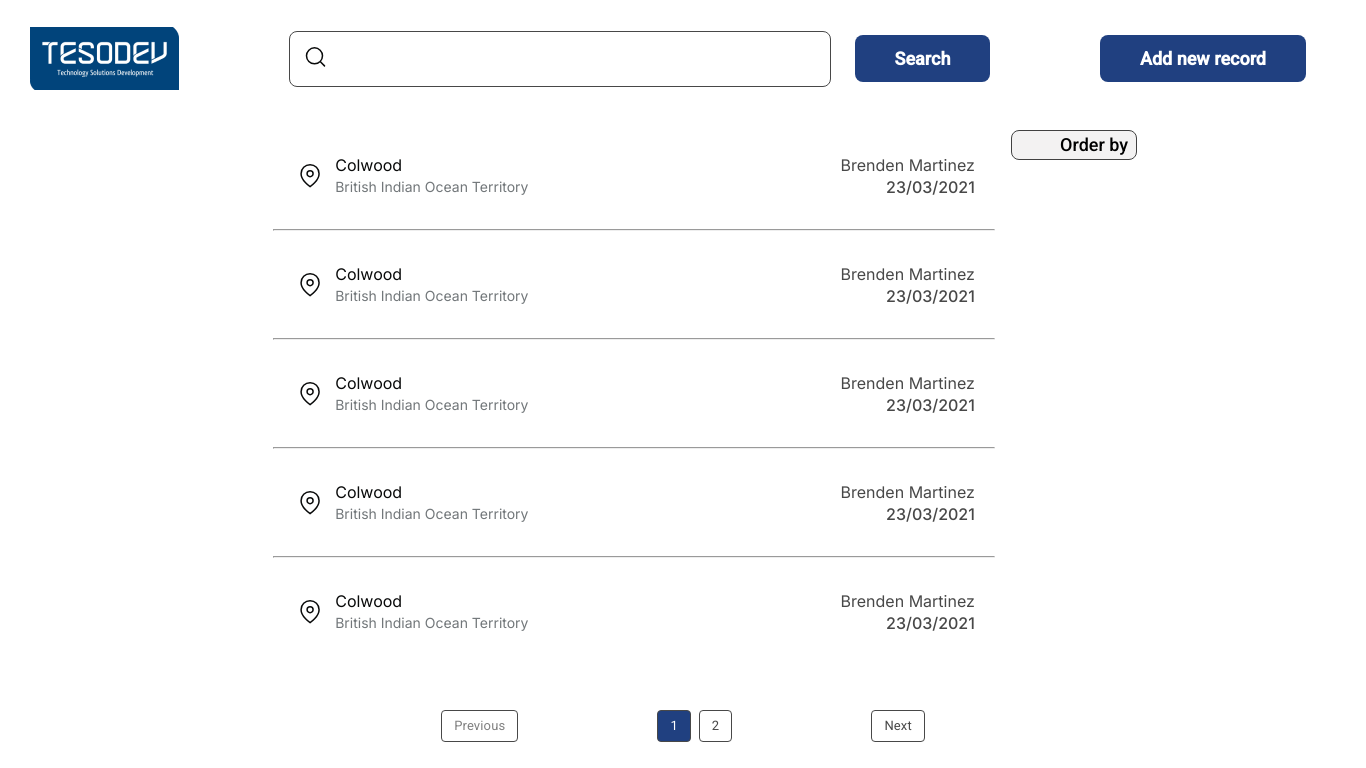
Test case: Show More › does dropdown open
The width and height of the screenshot is (1366, 768).
What coordinates should you click on to do the following:
click the element with test id "isViewDropdown"
I would click on:
 (1074, 145)
Its box is [1011, 130, 1137, 160].
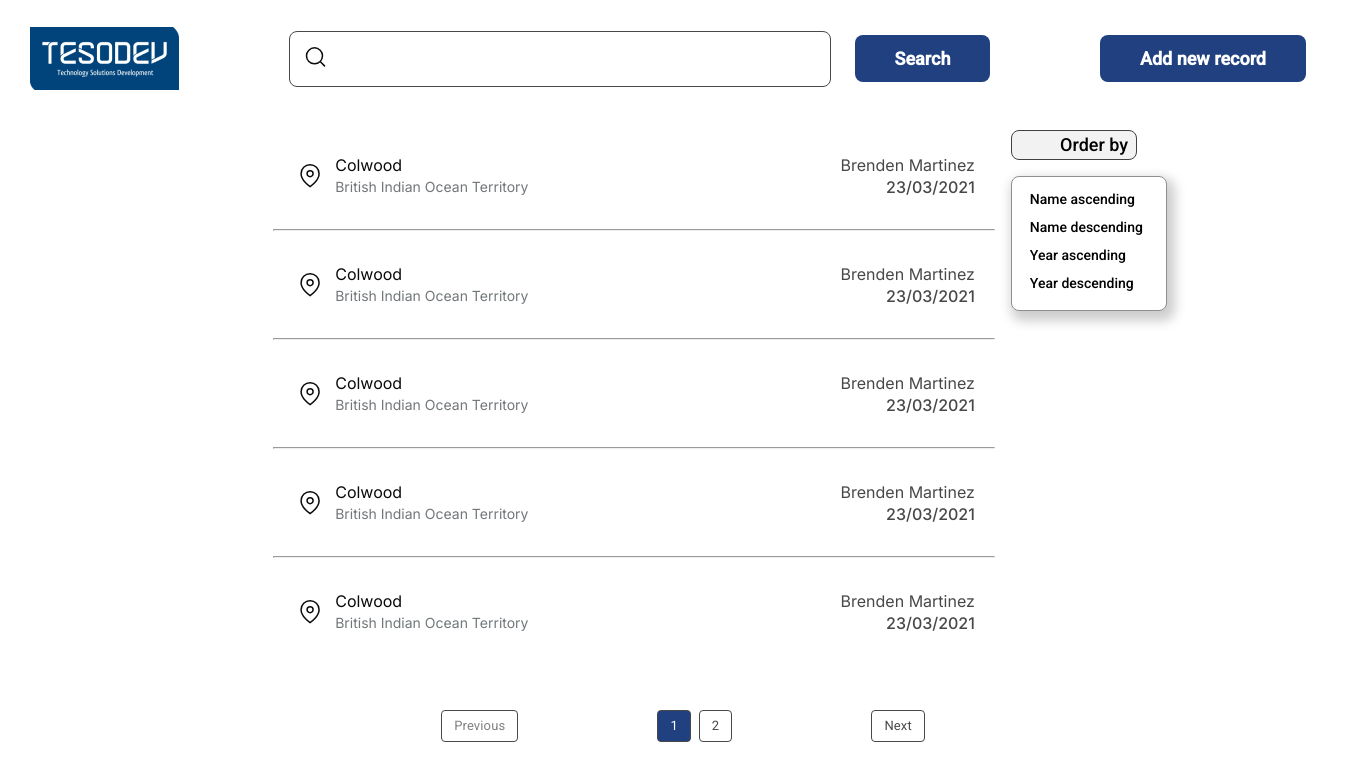
Result: the button with test id "orderNameAscending" is shown at [1020, 184, 1160, 212]
